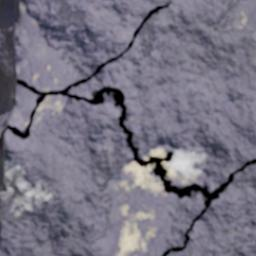brick: (70, 0, 255, 191), (0, 95, 203, 255), (0, 0, 166, 134), (170, 166, 255, 255)
crack: (0, 0, 255, 255)
